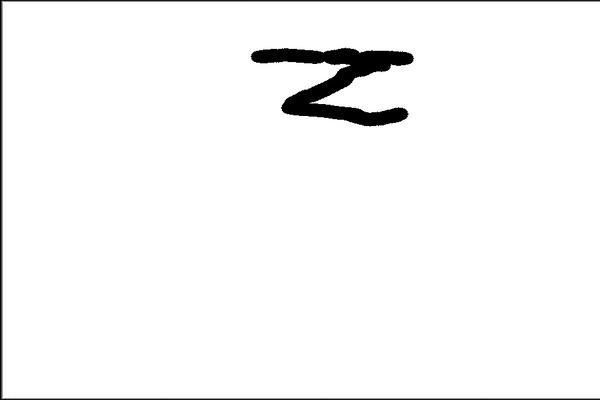Z: (242, 36, 422, 134)
